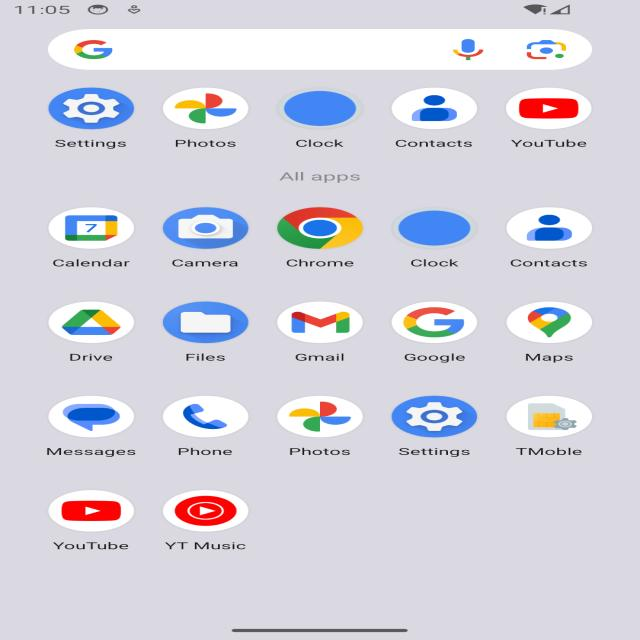Icon: (49, 301, 134, 344), (391, 88, 478, 130), (162, 396, 249, 438), (391, 396, 478, 438), (49, 396, 134, 438), (506, 396, 591, 438), (162, 88, 249, 129), (162, 208, 249, 249), (391, 301, 478, 342), (278, 396, 362, 438), (506, 88, 591, 129), (49, 88, 134, 129), (49, 208, 134, 249), (506, 208, 591, 249), (506, 301, 591, 342), (49, 490, 134, 531), (278, 208, 362, 249), (278, 301, 362, 342), (164, 301, 247, 342), (164, 490, 247, 531), (283, 91, 357, 126), (398, 210, 470, 245), (75, 40, 113, 59), (527, 40, 565, 59), (452, 39, 483, 60)
SearchBar: (49, 29, 591, 70)
